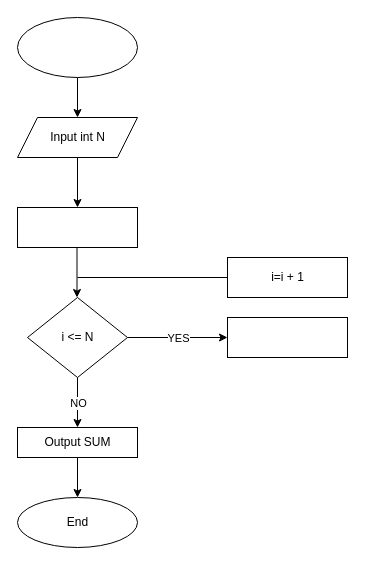
This 365x565 diagram has some shape labels left out. The box of each missing label's shape, as (x1, y1, x2, y2) in pixels:
for i=1, SUM=0: (16, 206, 138, 248)
START: (16, 16, 138, 78)
SUM = SUM + i: (226, 316, 348, 358)
